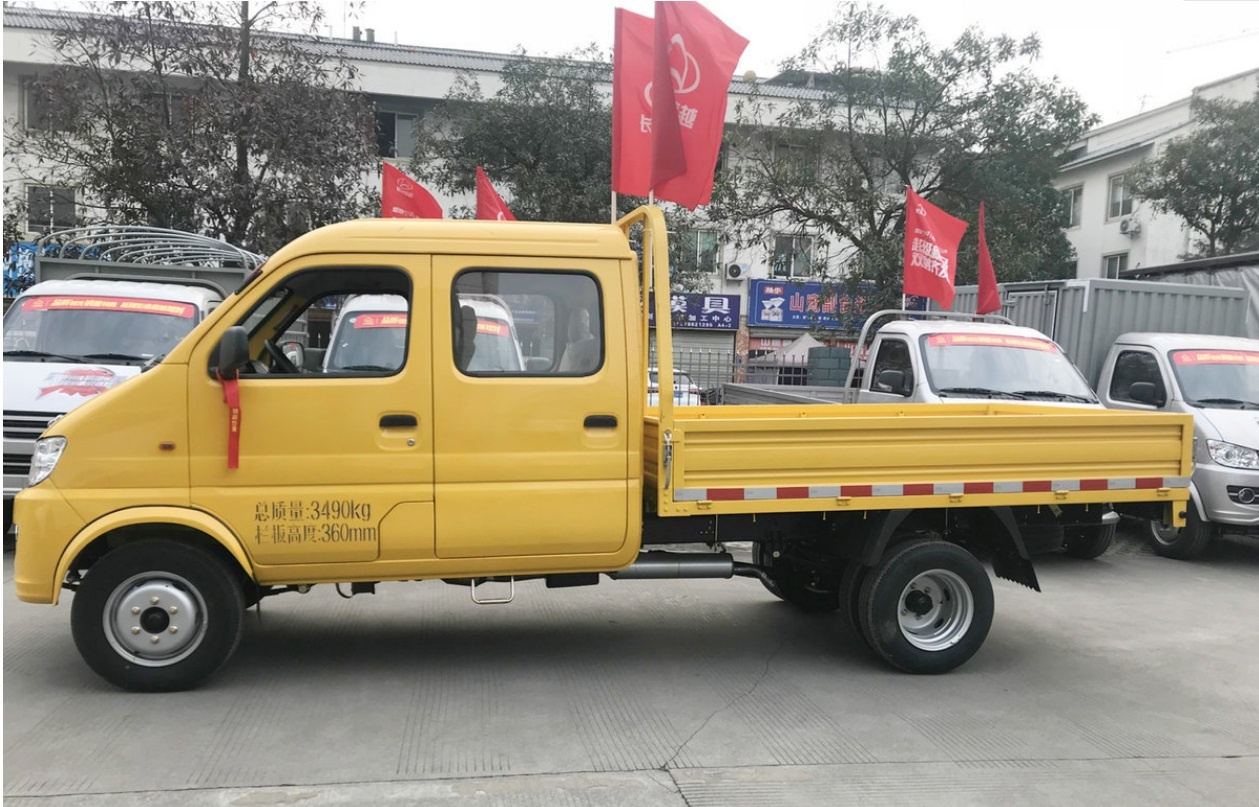truck: (23, 155, 1197, 679)
